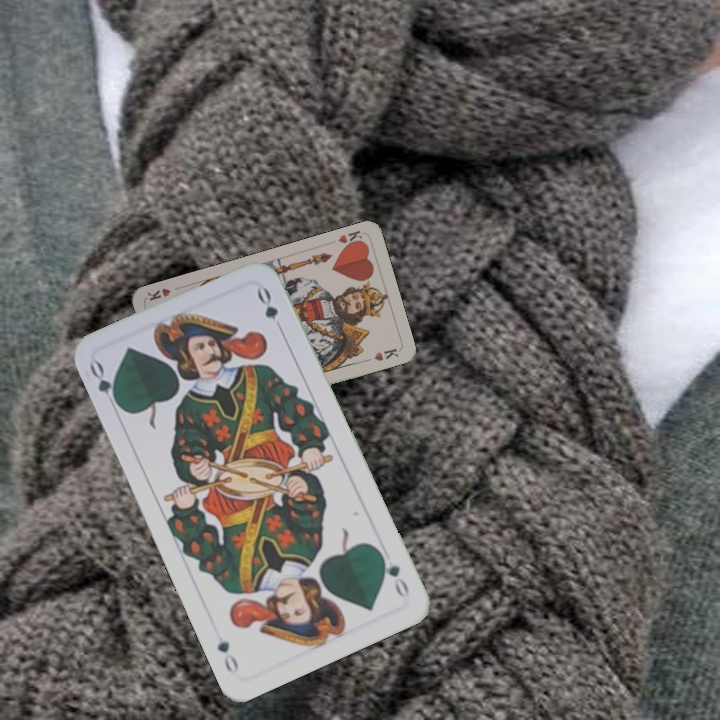GO: (85, 357, 124, 411), (375, 547, 412, 600)
HK: (335, 226, 367, 251)
